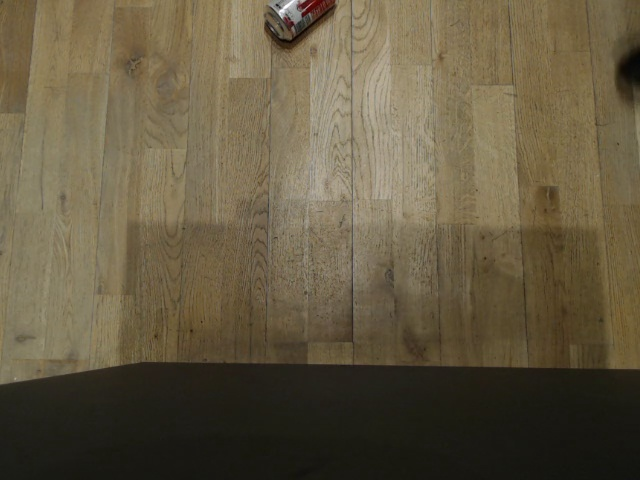cola: (262, 0, 338, 42)
